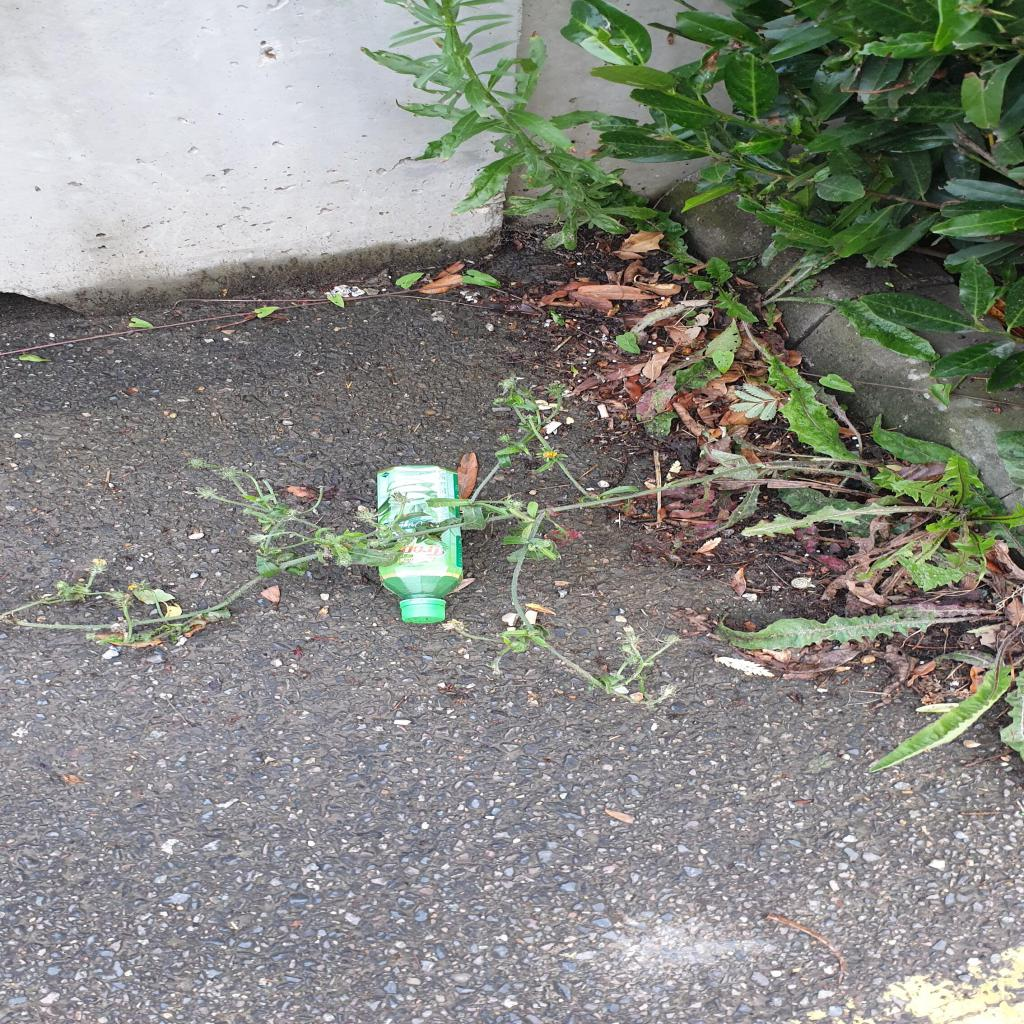Clear plastic bottle: (377, 466, 463, 624)
Plastic bottle cap: (400, 604, 446, 623)
